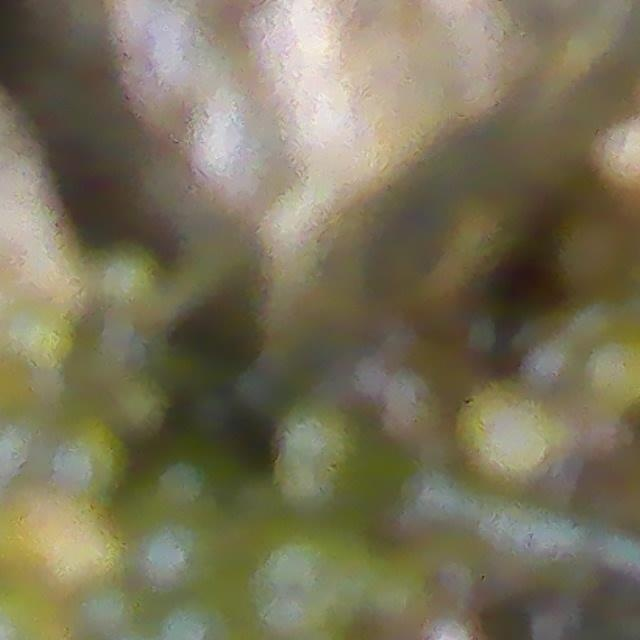SeaGrape: (456, 384, 561, 489), (42, 409, 136, 508), (554, 213, 636, 298), (100, 241, 174, 319), (1, 305, 79, 373), (71, 575, 145, 640)
